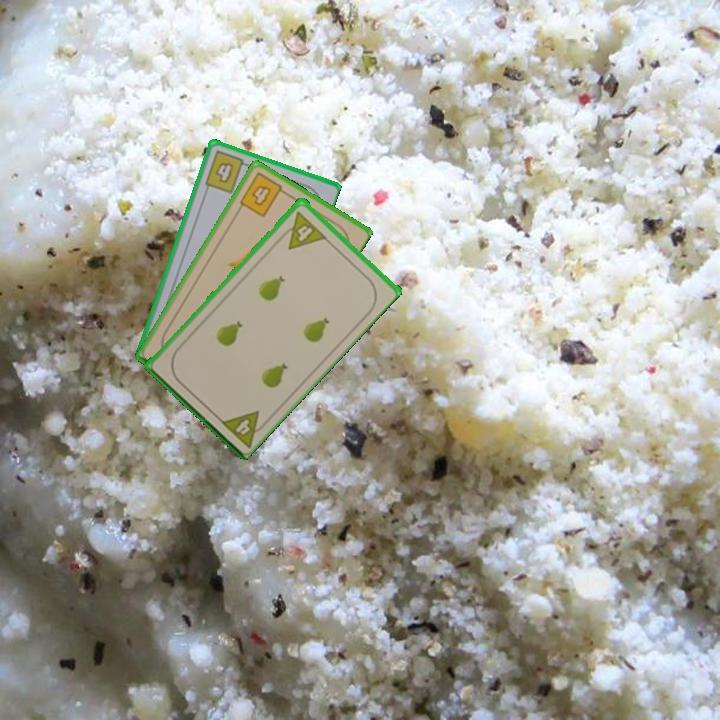4b: (236, 168, 290, 220), (201, 147, 252, 196)
4p: (216, 406, 272, 450), (276, 207, 328, 252)
